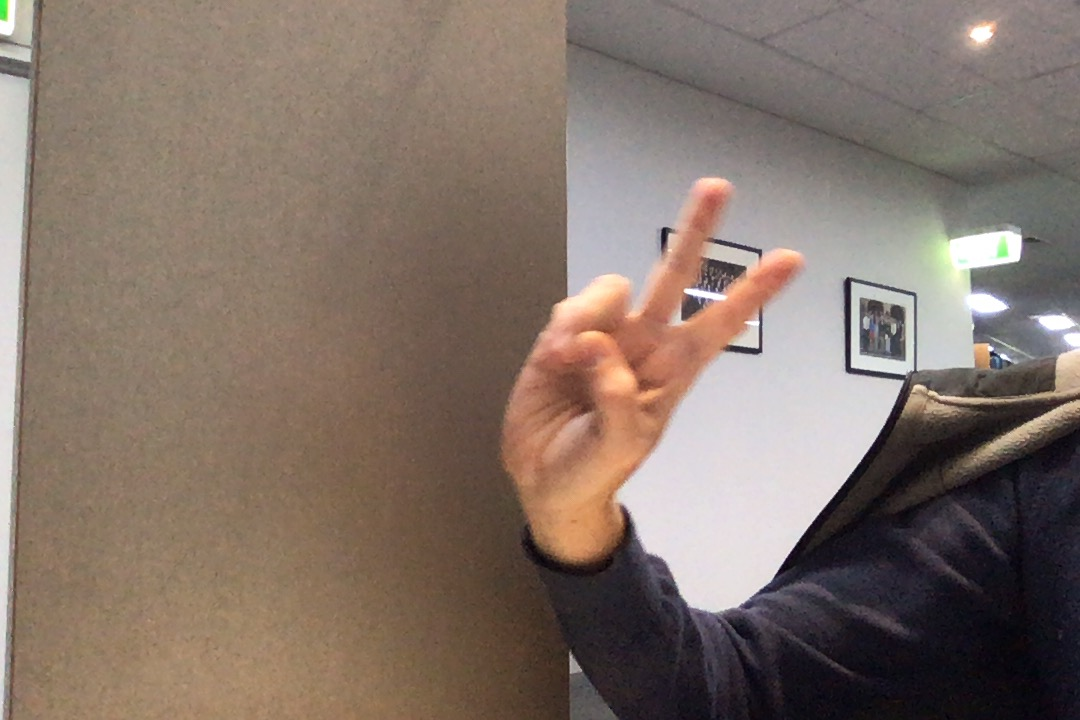peacesign: (490, 163, 814, 530)
